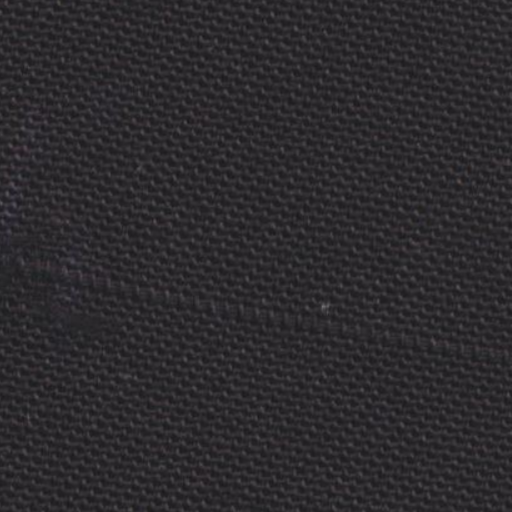DaiSha: (6, 236, 504, 366)
